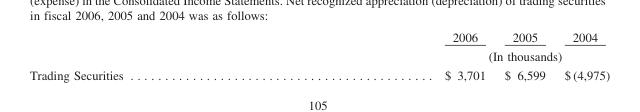table: (29, 29, 609, 81)
table column: (29, 29, 283, 81), (283, 29, 494, 81), (494, 29, 554, 81), (554, 29, 609, 81)
table column header: (29, 29, 609, 64)
table row: (29, 45, 609, 64), (29, 64, 609, 81), (29, 29, 609, 45)
table spanning cell: (283, 45, 609, 64)
